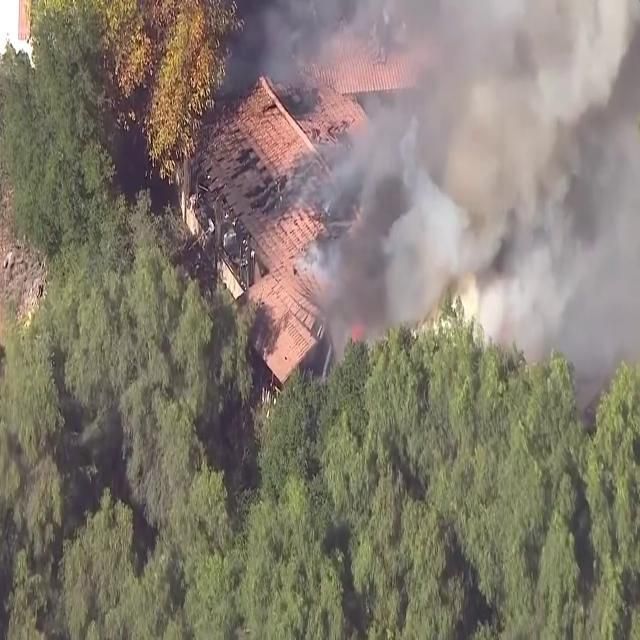Smoke: (302, 0, 640, 363)
